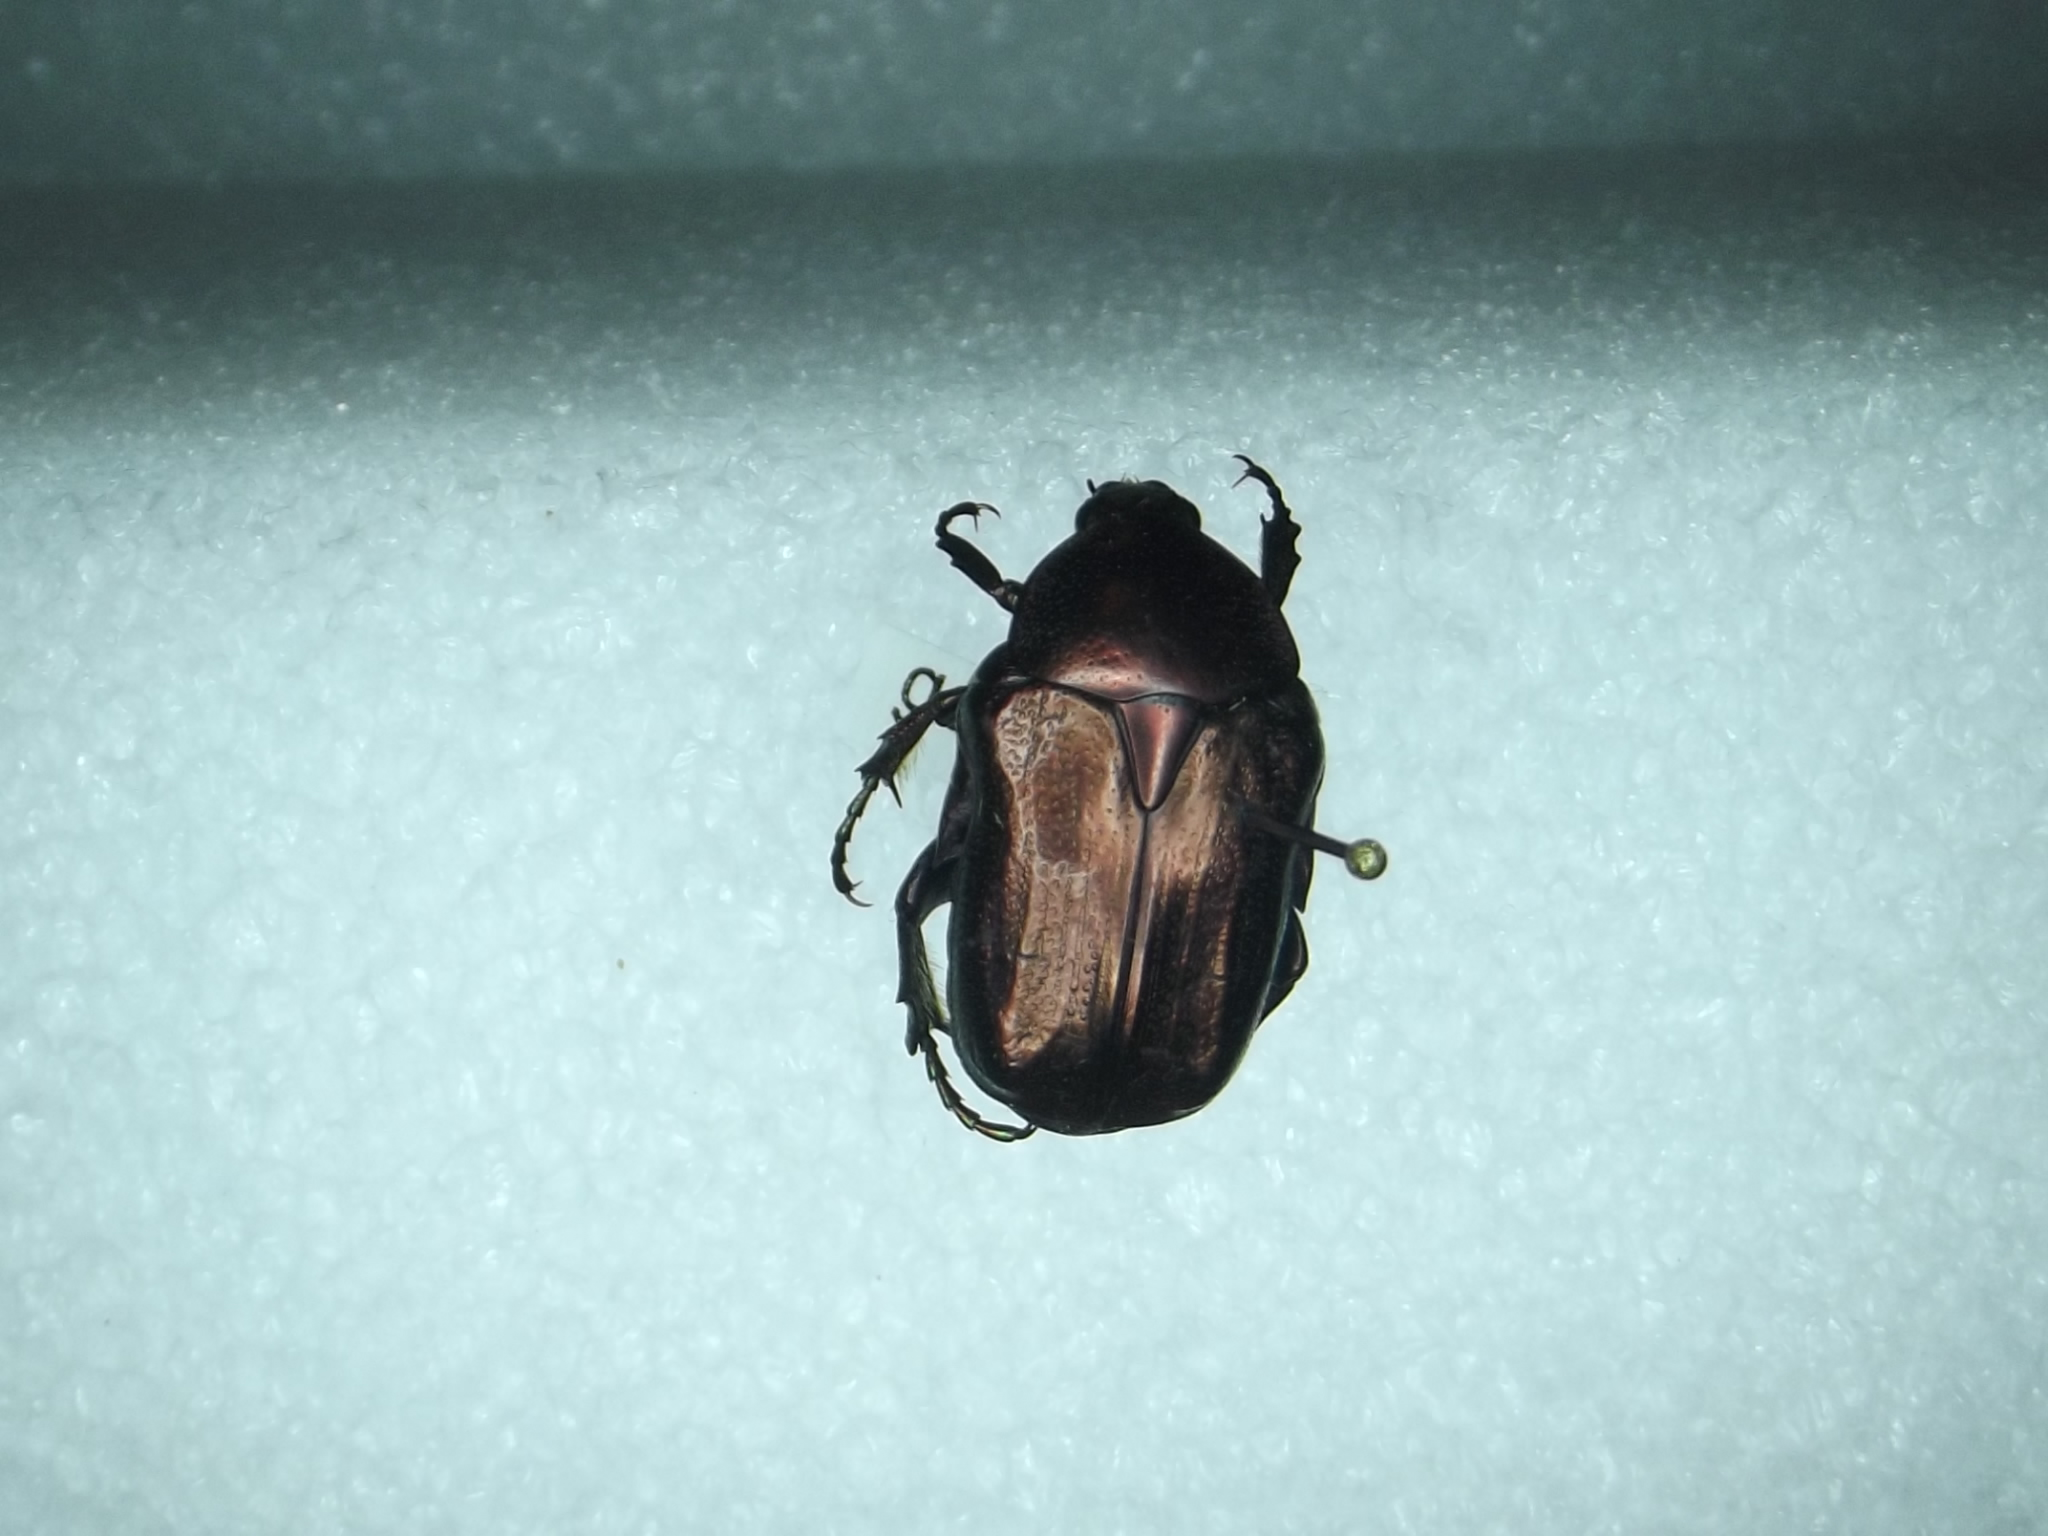Cetonia_aurata: (806, 434, 1376, 1176)
